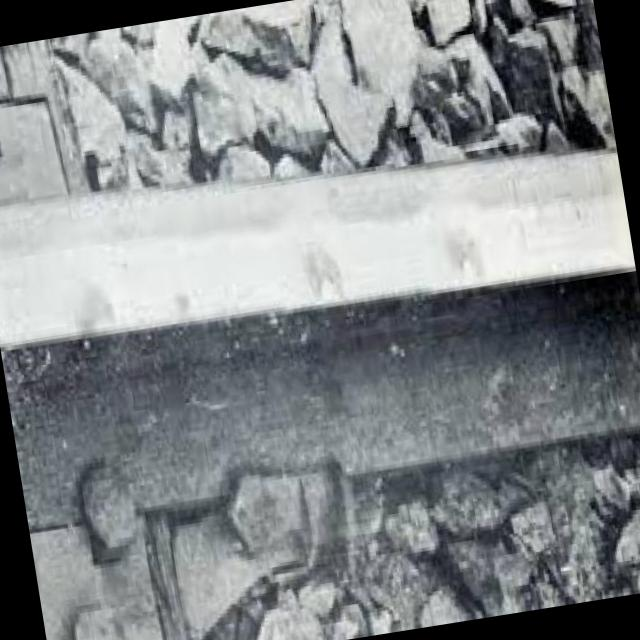non-defective: (0, 109, 640, 618)
